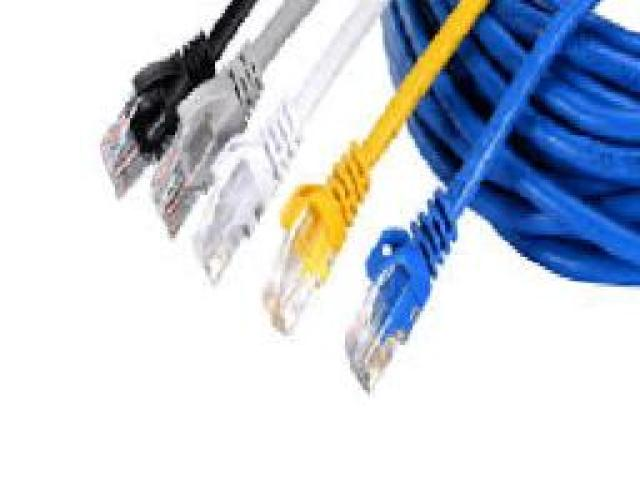wire: (98, 0, 638, 394)
